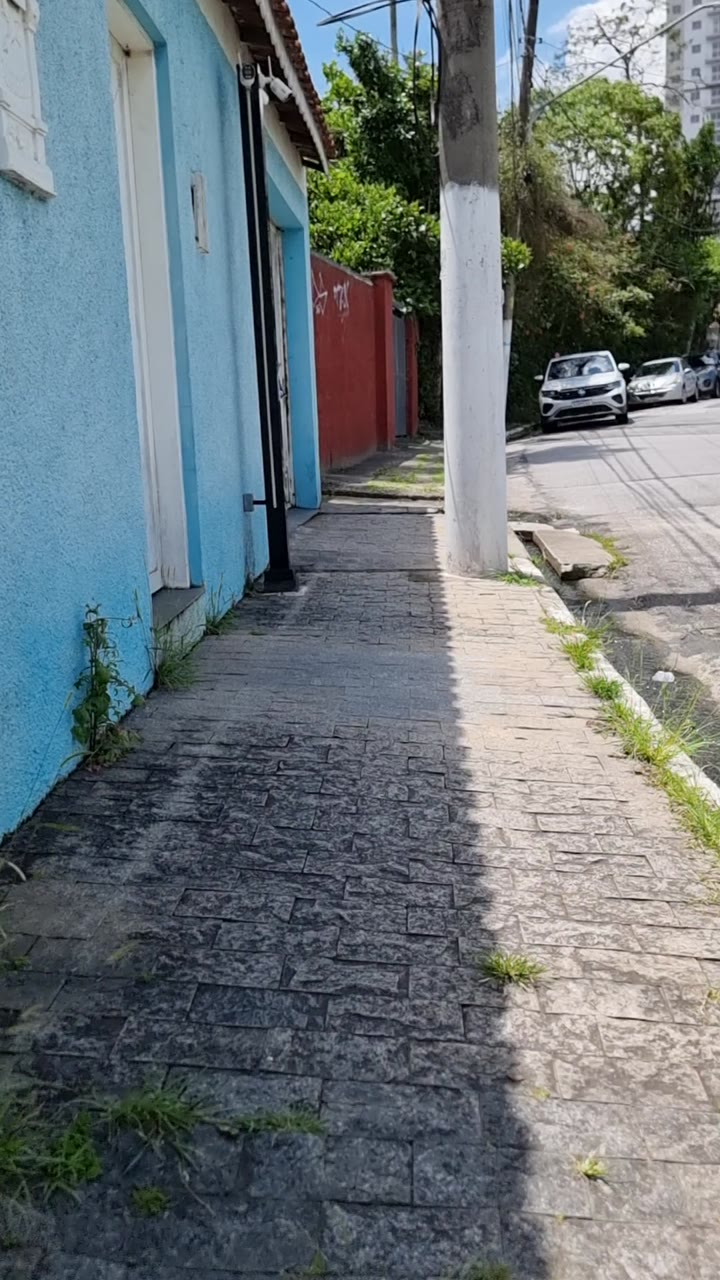obstaculo: (446, 0, 518, 589)
